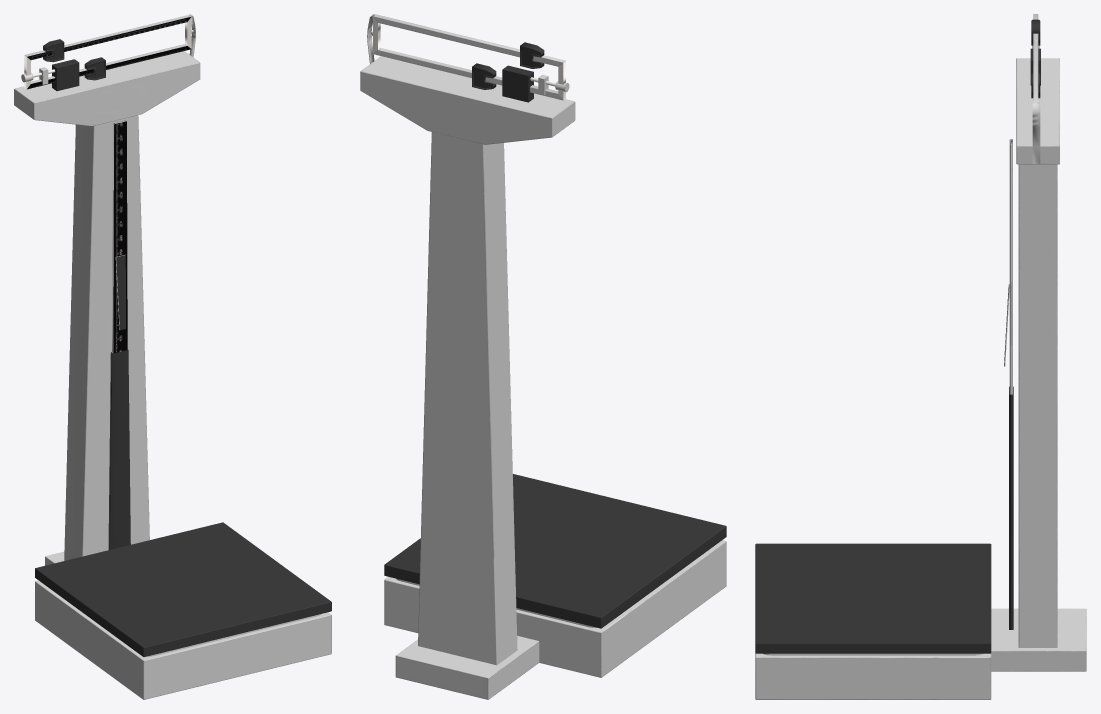
3 renders of one model, left to right at view 1: azimuth 30°, elevation 25°; view 2: azimuth 150°, elevation 25°; view 3: azimuth 270°, elevation 25°, orthographic. The views are drawn at different scales.
Visible parts, largest first — view 1: W-5a; view 2: W-5a; view 3: W-5a.
Boxes of the visible parts, bbox=[...] form: W-5a: bbox=[14, 14, 331, 699]; W-5a: bbox=[360, 14, 726, 699]; W-5a: bbox=[755, 14, 1086, 699].
Bounding box in the file's own units: 46.76 × 131 × 65.64.
